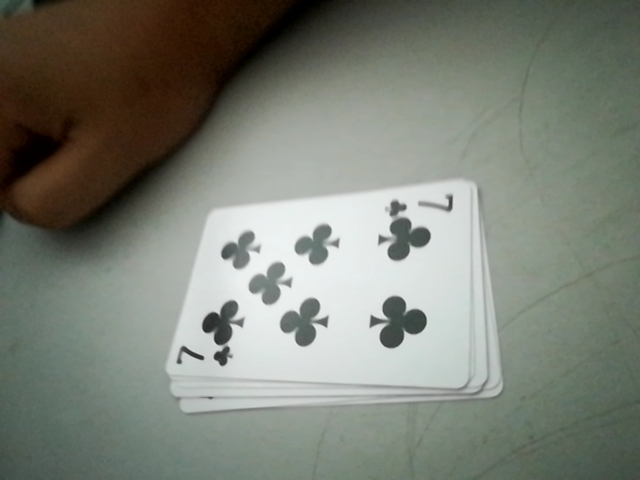mh 7: (385, 189, 463, 224), (173, 341, 232, 377)
